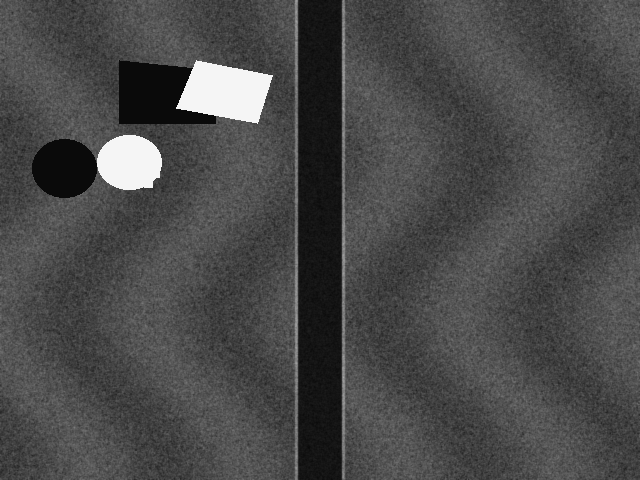Plastic Debris: (97, 135, 161, 189)
Unknown Anomaly: (176, 60, 272, 123)
